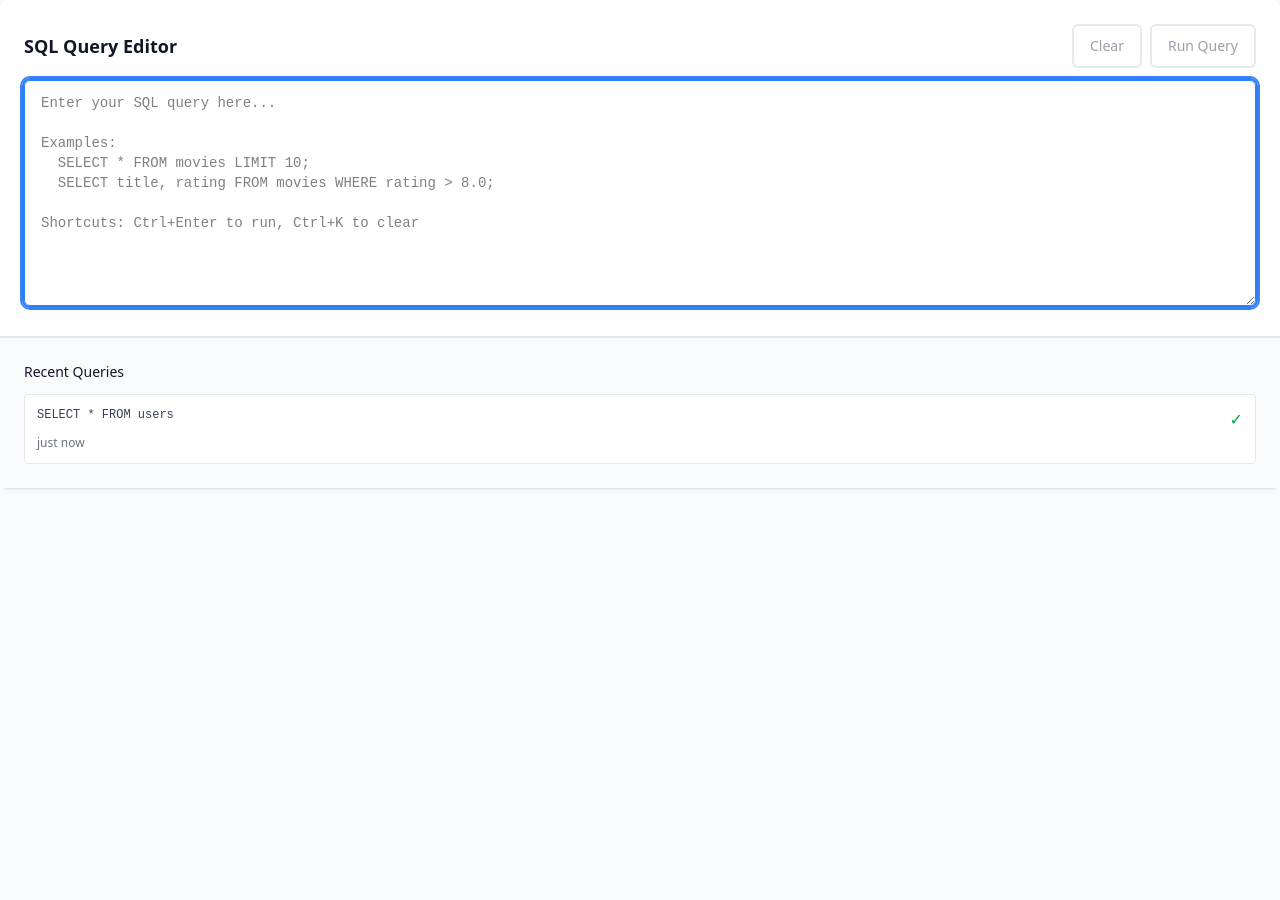
Test: QueryEditor › Query Execution › shows execution time
The width and height of the screenshot is (1280, 900).
Type "SELECT * FROM users" into the text box named "sql query input" at (640,193), box [24, 80, 1256, 306]
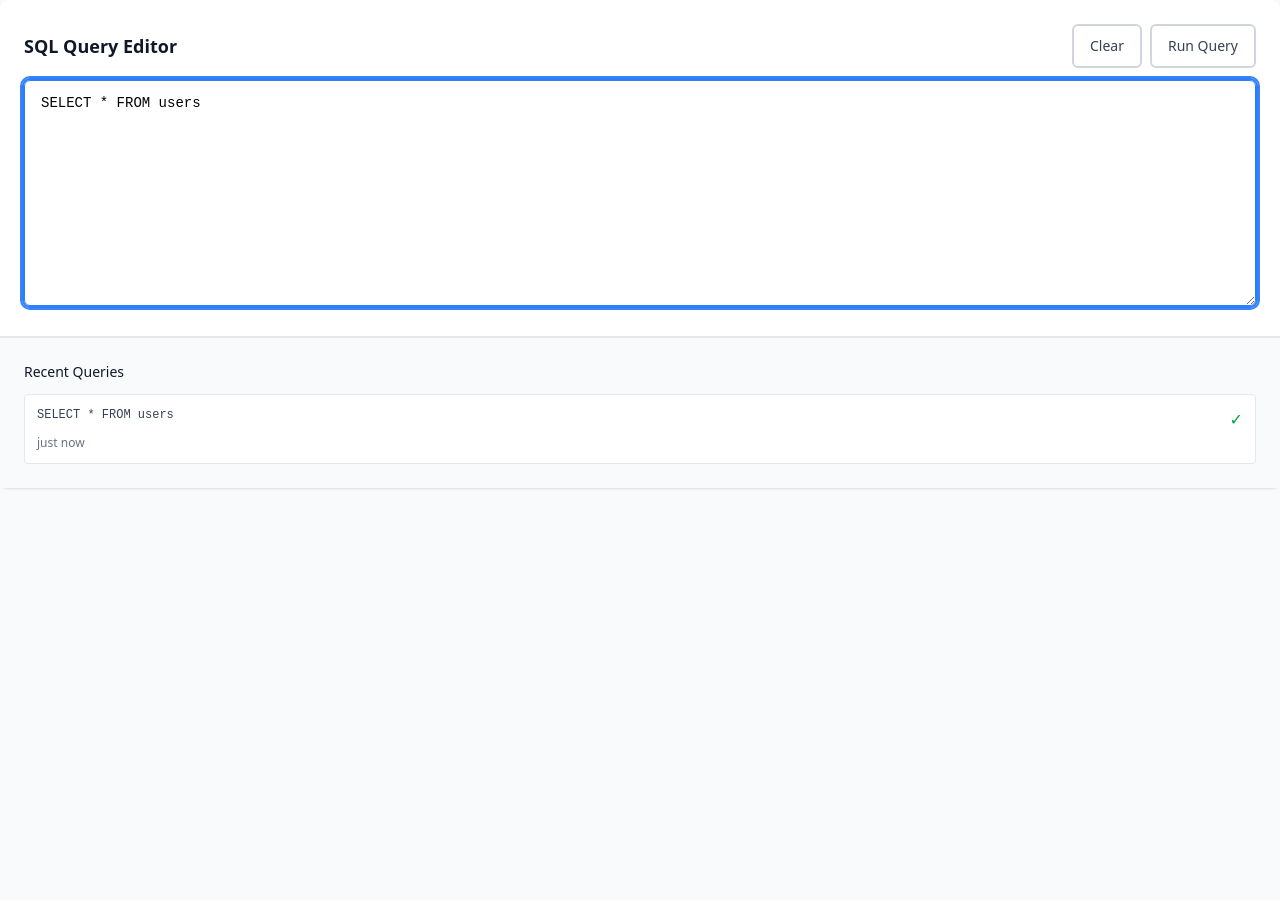
Click the button "Run Query" at (1203,46), box [1150, 24, 1256, 68]
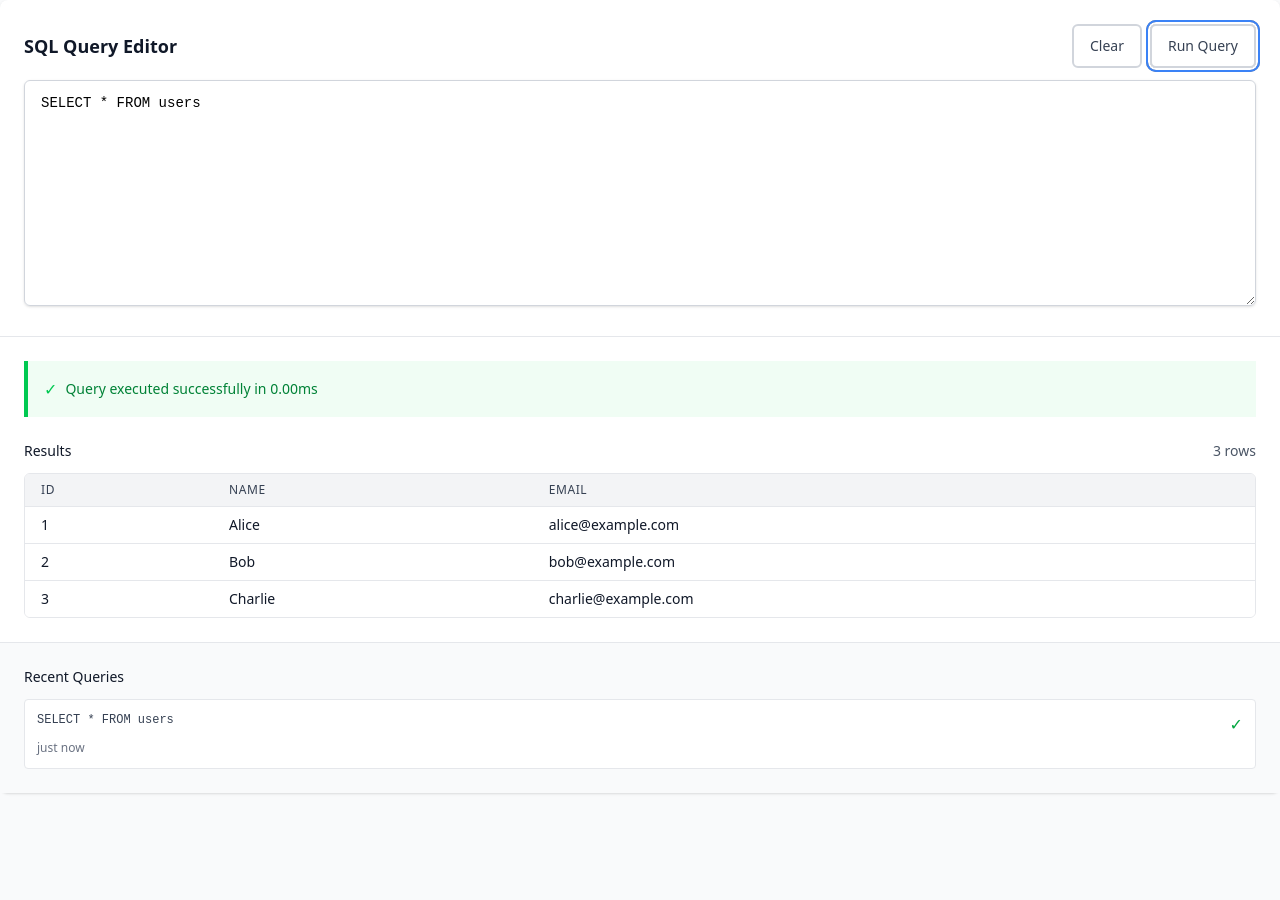
expect the text "Query executed successfully in 0.00ms" is shown: met, box [65, 379, 318, 399]
